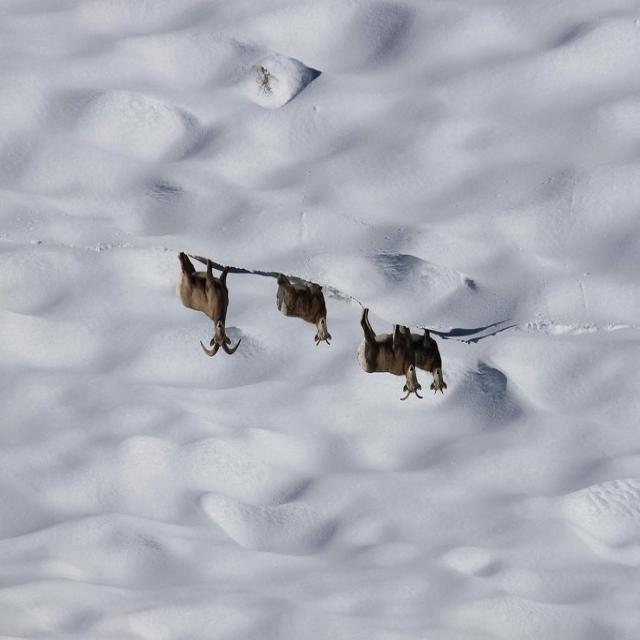Goat: (175, 252, 241, 358), (357, 308, 422, 402), (276, 274, 331, 348), (403, 329, 447, 396)
